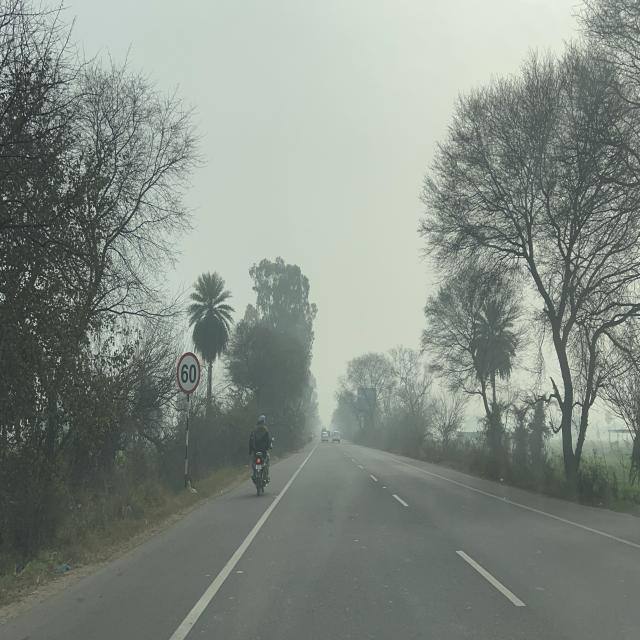SPEED_LIMIT_60: (176, 351, 201, 395)
